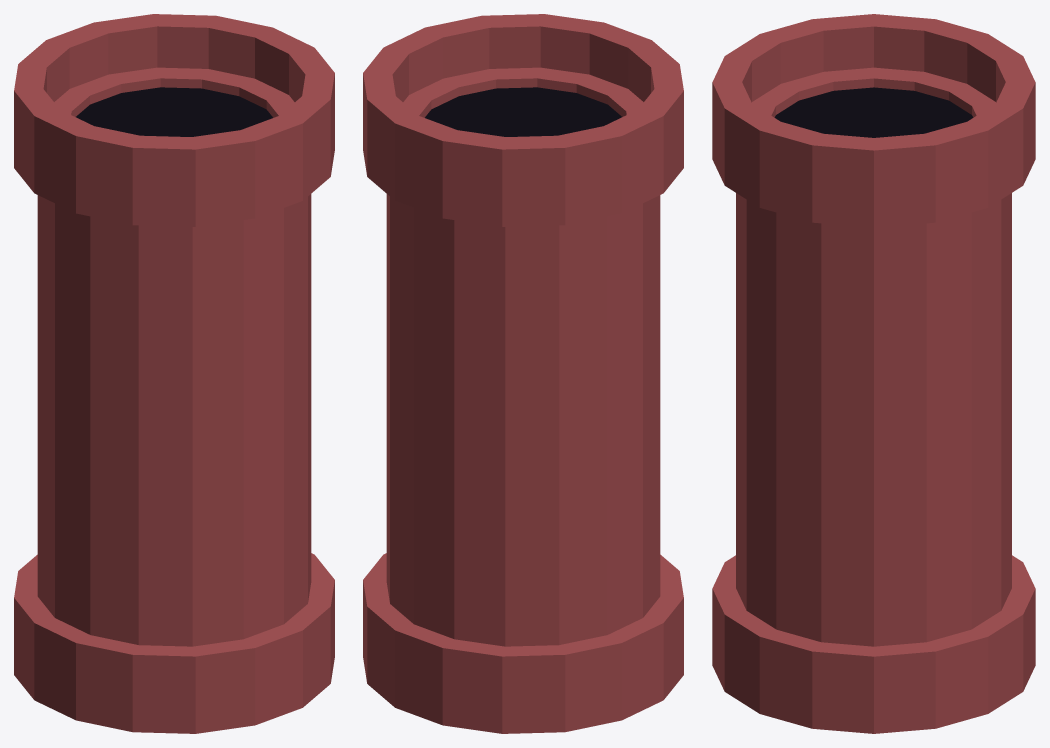
The model's file is red pipe long.fbx.
The picture shows the model from 3 angles, left to right: view 1: azimuth 30°, elevation 25°; view 2: azimuth 150°, elevation 25°; view 3: azimuth 270°, elevation 25°; orthographic projection.
Parts seen in each view (by area): view 1: Cylinder; view 2: Cylinder; view 3: Cylinder.
Boxes of the visible parts, left/top/right/bottom form: Cylinder: left=14, top=14, right=334, bottom=733; Cylinder: left=363, top=14, right=683, bottom=733; Cylinder: left=712, top=14, right=1035, bottom=733.
Size of the model in its own units: 234 by 467 by 234.
